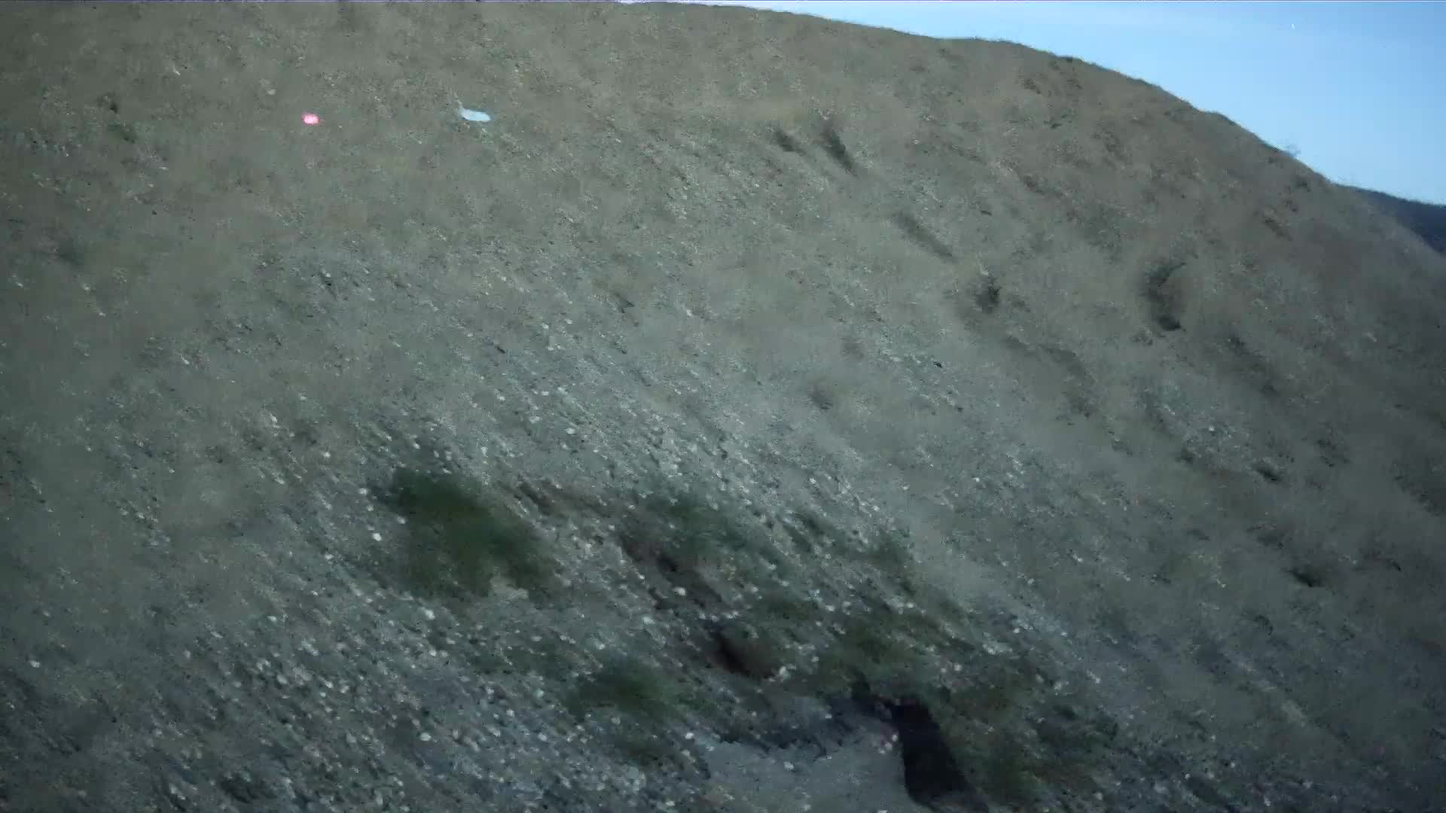Target: (456, 105, 492, 126)
